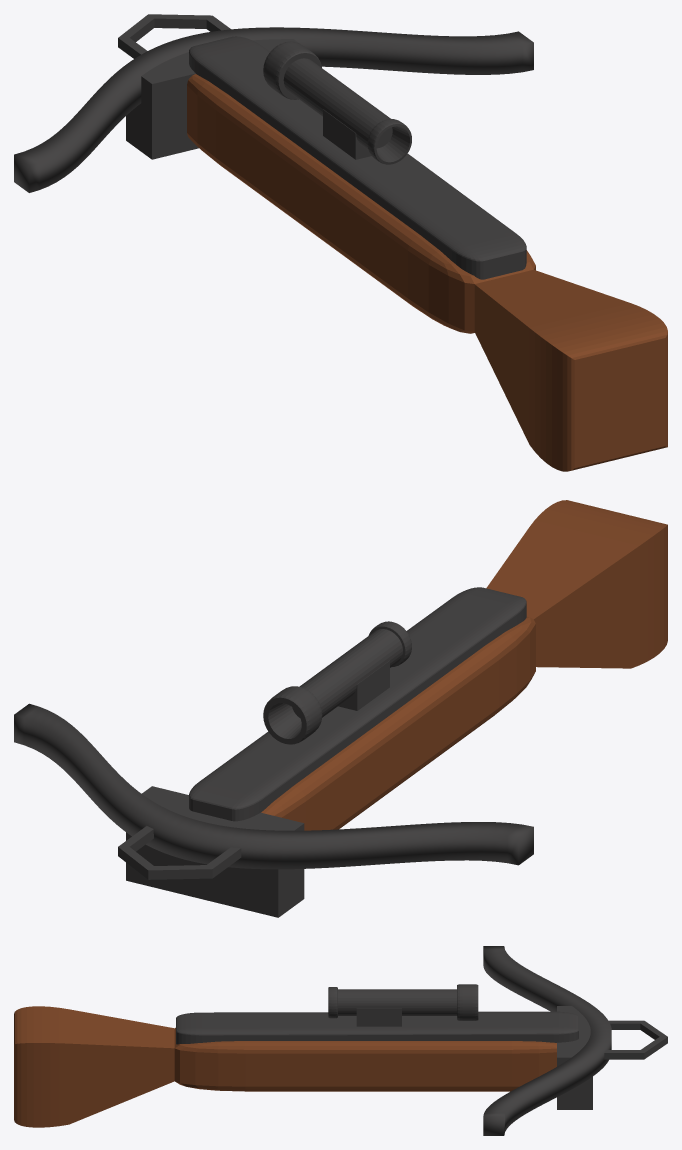
Rendered from Cross (2).glb.
3 views of the same model, one above another, from view 1: azimuth 30°, elevation 25°; view 2: azimuth 150°, elevation 25°; view 3: azimuth 270°, elevation 25° (orthographic). The views are drawn at different scales.
Visible parts, largest first — view 1: Cube.002; view 2: Cube.002; view 3: Cube.002.
Boxes of the visible parts, x1,y1,x2,y2 form: Cube.002: (14,14,667,471); Cube.002: (14,500,667,917); Cube.002: (14,946,667,1135).
Bounding box in the file's own units: 5.37 × 1.81 × 8.7.
